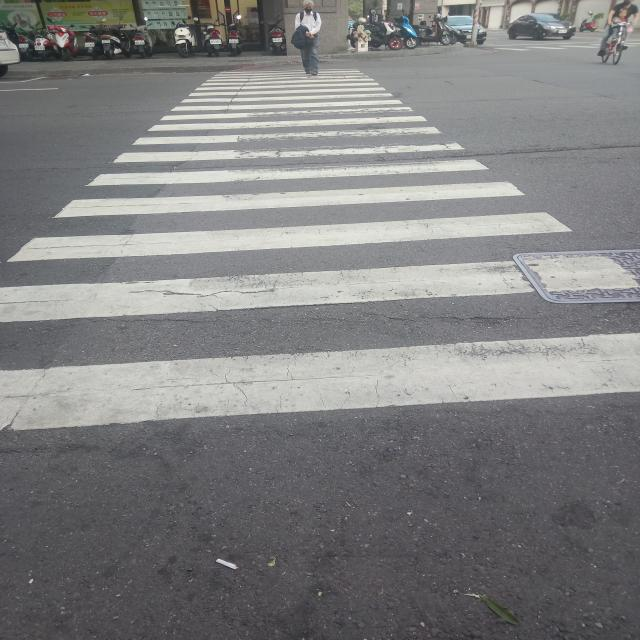person: (295, 0, 322, 76)
zebra crossing: (4, 62, 636, 433)
